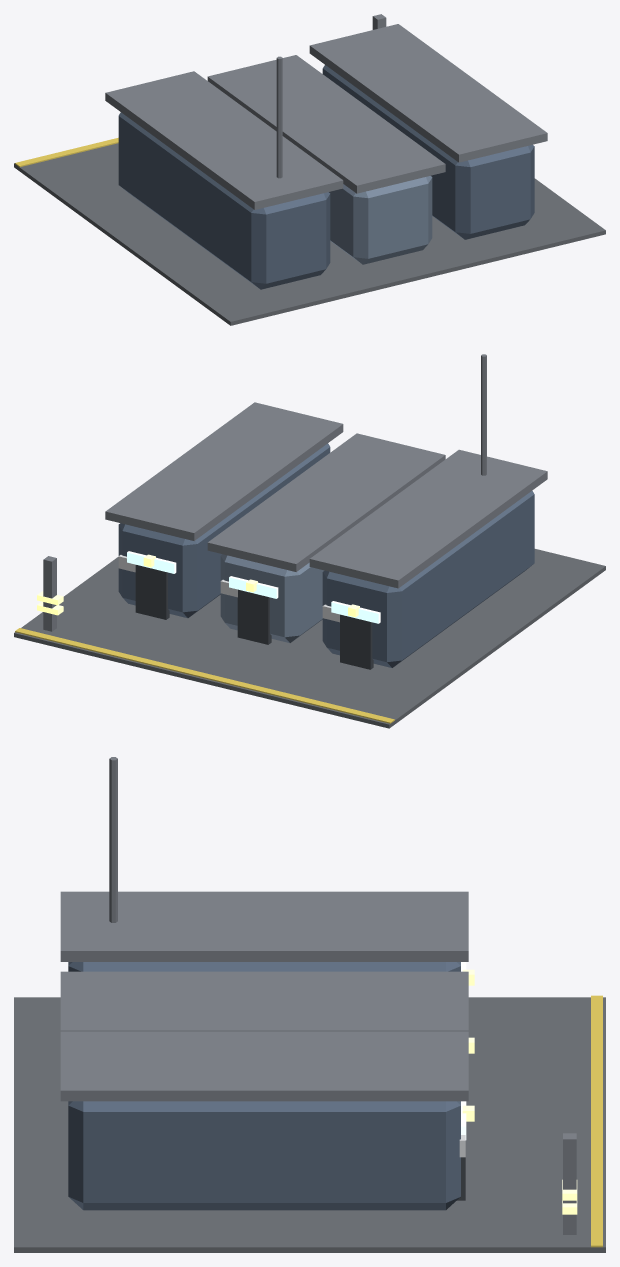
Rendered from zone_low_4_t2.glb.
The picture shows the model from 3 angles, top to bottom: view 1: azimuth 30°, elevation 25°; view 2: azimuth 150°, elevation 25°; view 3: azimuth 270°, elevation 25°; orthographic projection. The views are drawn at different scales.
Parts seen in each view (by area): view 1: zone_low_4_t2, detail; view 2: zone_low_4_t2, detail; view 3: zone_low_4_t2, detail.
Part boxes in pixels (x1,y1,x2,y2): zone_low_4_t2: (14, 24, 605, 325); detail: (15, 14, 386, 178); zone_low_4_t2: (14, 402, 605, 728); detail: (15, 354, 486, 723); zone_low_4_t2: (14, 891, 605, 1252); detail: (109, 757, 602, 1247).
Size of the model in its own units: 19.6 by 11 by 19.6.
